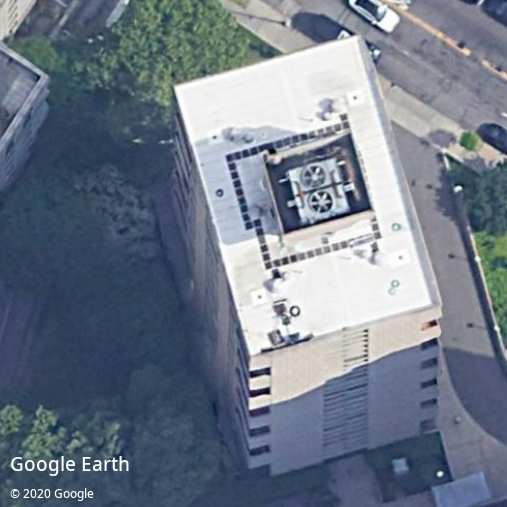Vent: (309, 190, 333, 214), (303, 165, 326, 188)
